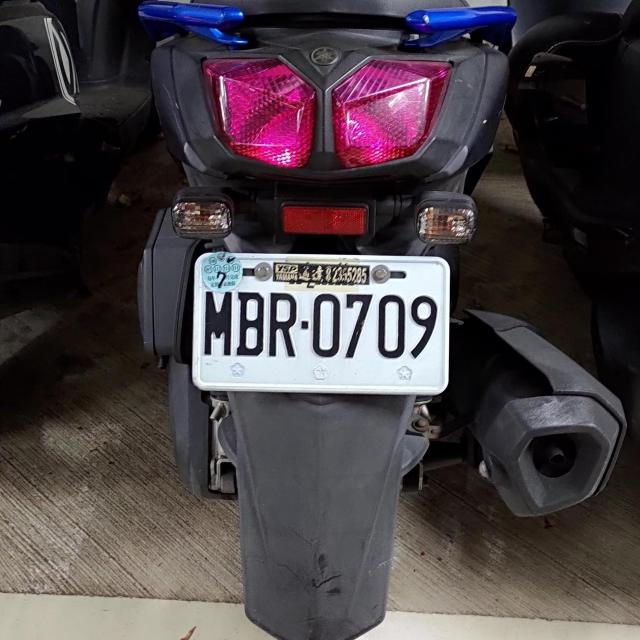W: (188, 249, 450, 395)
